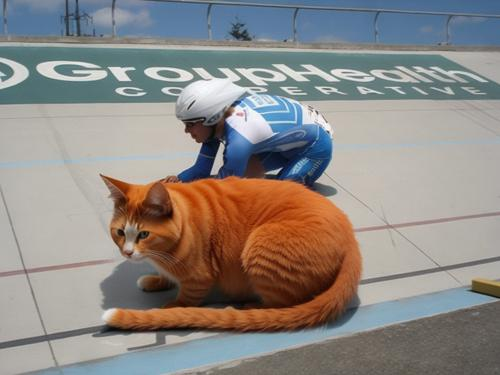cat: (100, 174, 363, 333)
person: (142, 76, 335, 294)
person/foot: (278, 251, 317, 291), (219, 228, 255, 259)
person/hand: (148, 182, 173, 202), (140, 174, 168, 183)
person/head: (176, 79, 244, 142)
